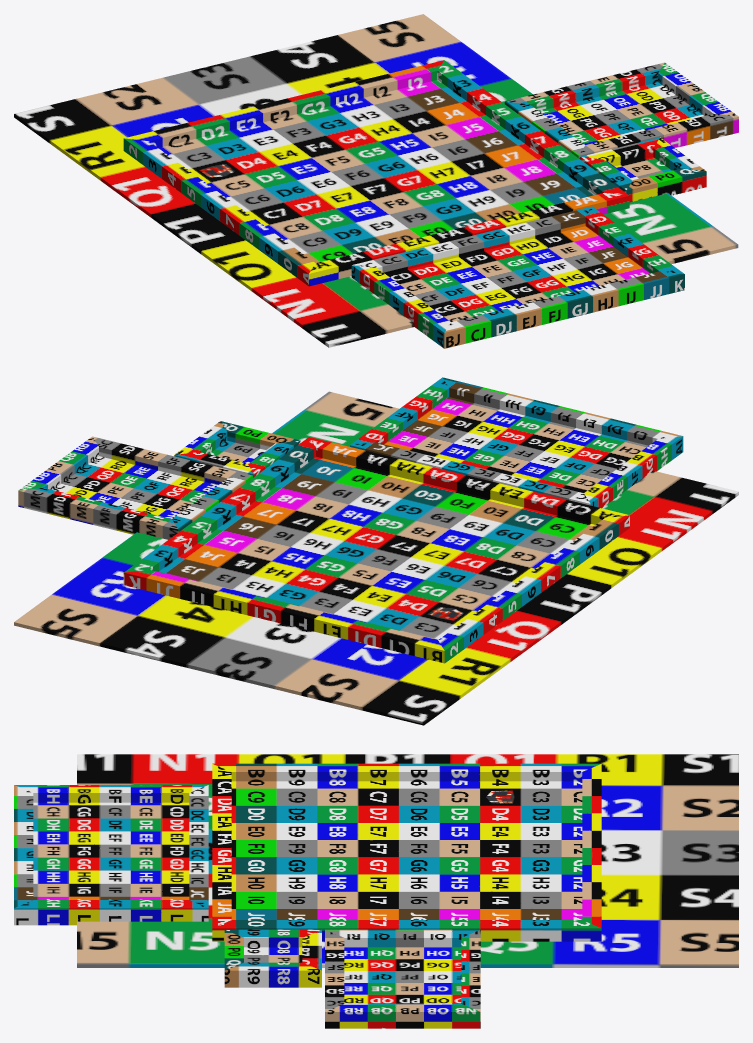
The model's file is pictureframe6.FBX.
3 views of the same model, one above another, from view 1: azimuth 30°, elevation 25°; view 2: azimuth 150°, elevation 25°; view 3: azimuth 270°, elevation 25° (orthographic). The views are drawn at different scales.
Parts seen in each view (by area): view 1: pictureframe6; view 2: pictureframe6; view 3: pictureframe6.
Boxes of the visible parts, x1,y1,x2,y2 form: pictureframe6: [14, 14, 738, 348]; pictureframe6: [14, 377, 738, 725]; pictureframe6: [14, 754, 738, 1028].
Bounding box in the file's own units: 32.93 × 0.9542 × 37.24.
Materials: 1 (1 with a texture image).
